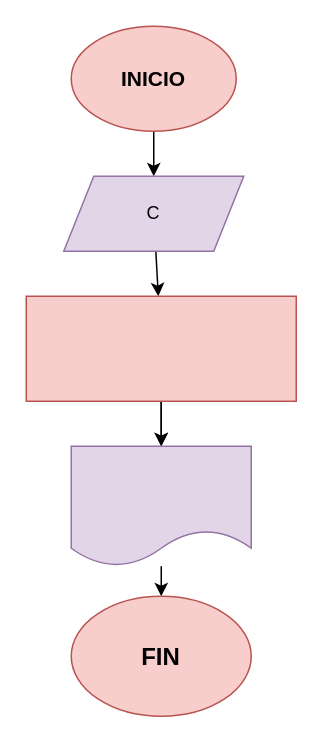
Image size: 323x743. Some labels were removed from this diagram. Here are the shapes that lost their labels. From the top down, the box of each, then its label:
(25, 295, 296, 401): F = 9/5 C + 32 K = c + 273.15
(70, 445, 251, 566): F,K
